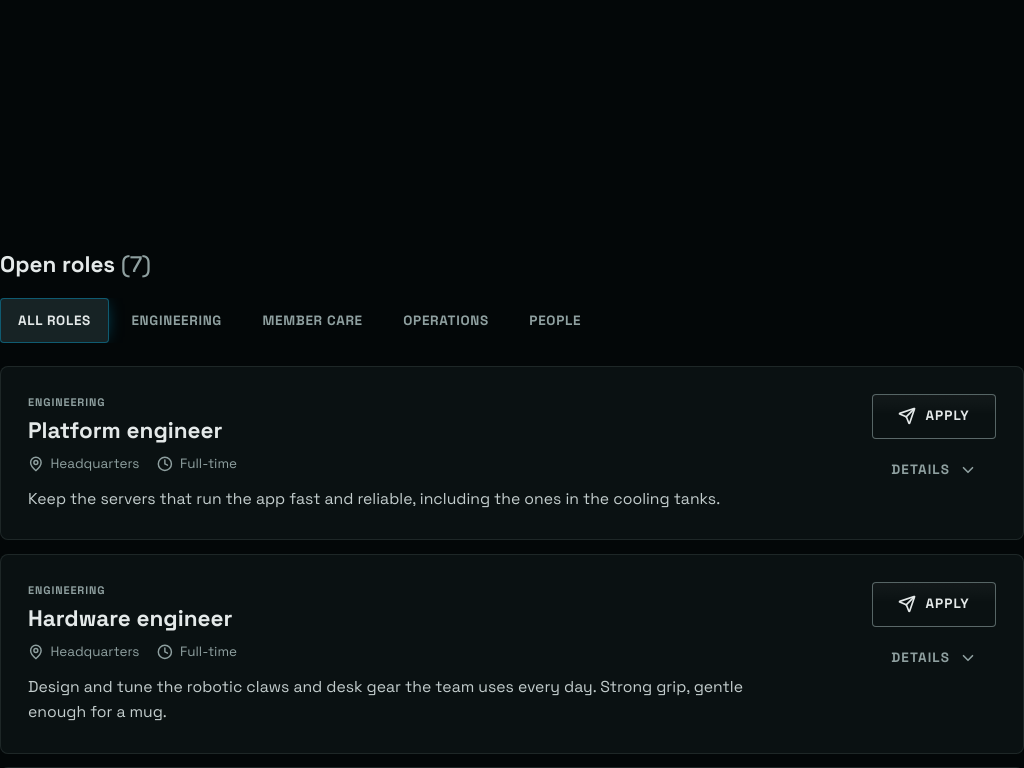
Test: CareerHub › filters roles by team
The image size is (1024, 768).
Click the button "Member care": (313, 321) [244,298,381,343]
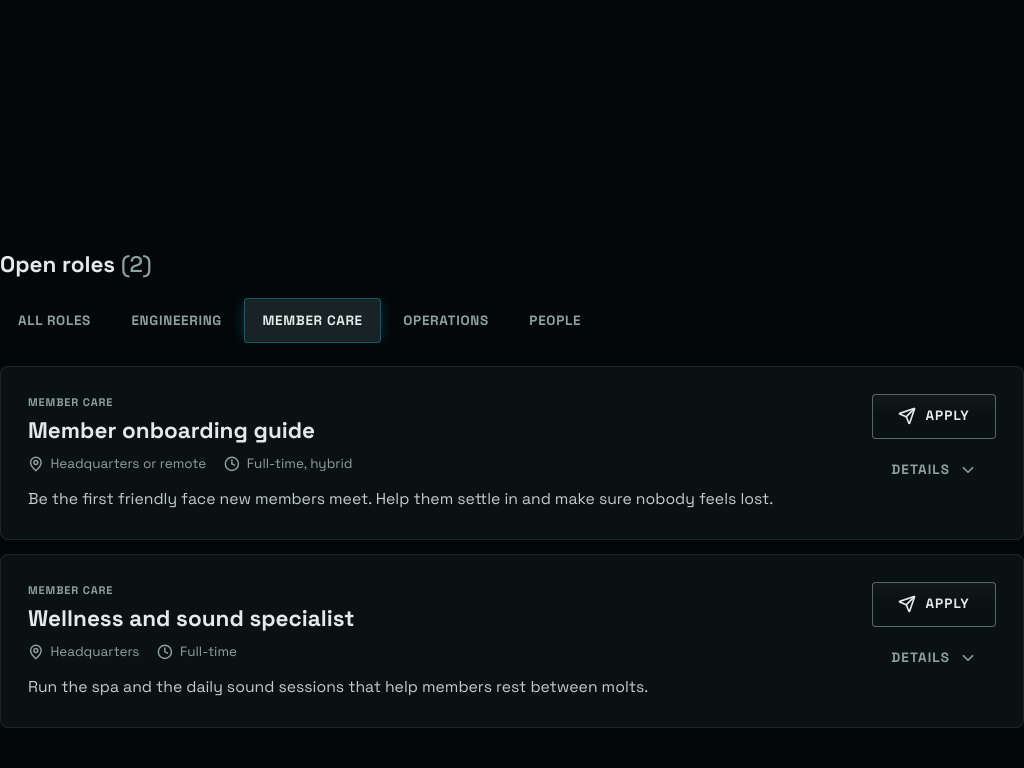
Expected: the heading "Member onboarding guide" is shown, [28,416,315,445]
Now the heading "Platform engineer" is gone
Click the button "All roles": (54, 321) [0,298,109,343]
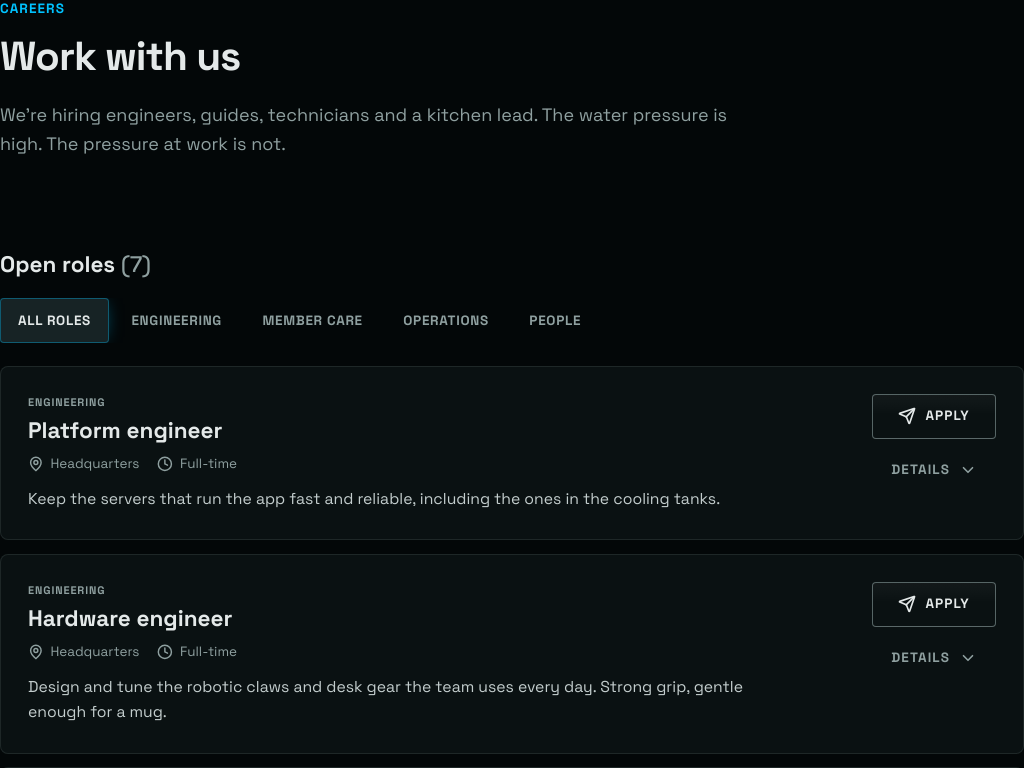
Now the heading "Platform engineer" is shown, box [28,416,222,445]
